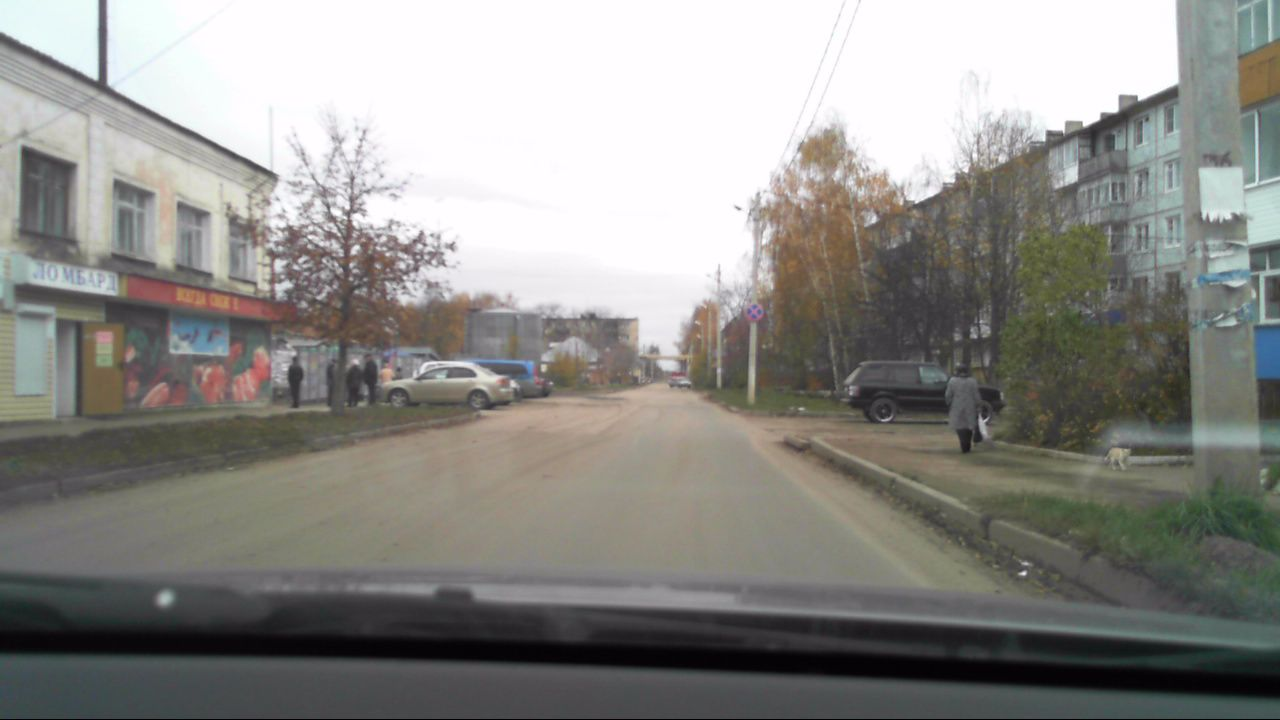No Parking: (744, 301, 765, 321)
